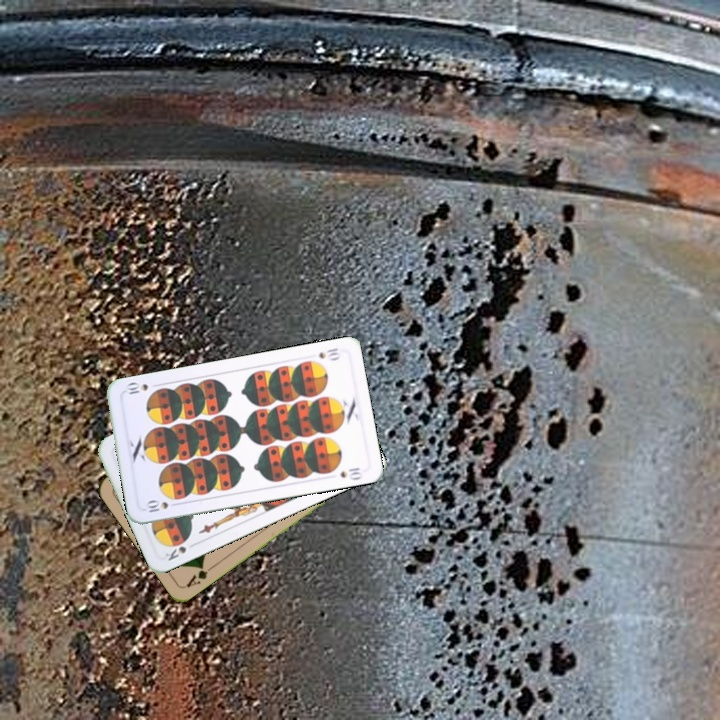GA: (182, 561, 217, 590)
S10: (314, 344, 343, 363), (141, 497, 171, 515)
SK: (160, 535, 192, 564)
